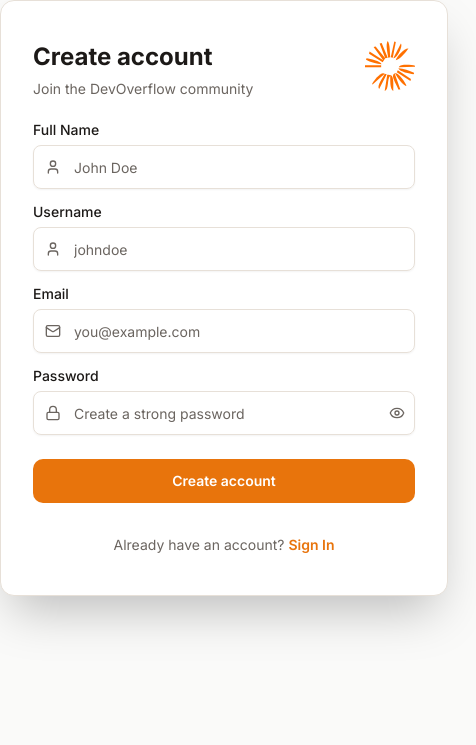
it: SignUp AuthForm › Validation Feedback › should show specific regex errors (UI integration)
Type "user@invalid" into the field labelled "Username" at {"x": 224, "y": 249}, box [33,227,415,271]
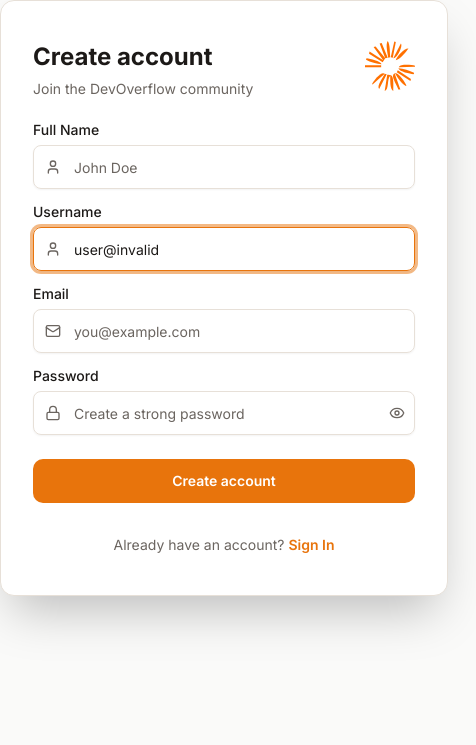
Click the button "Create account" at {"x": 224, "y": 481}, box [33,459,415,503]
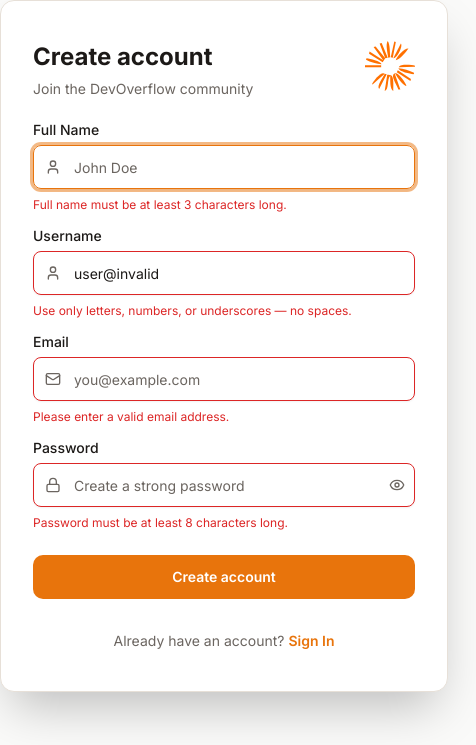
Result: the text "Use only letters, numbers, or underscores — no spaces." is shown at [33,303,352,318]
